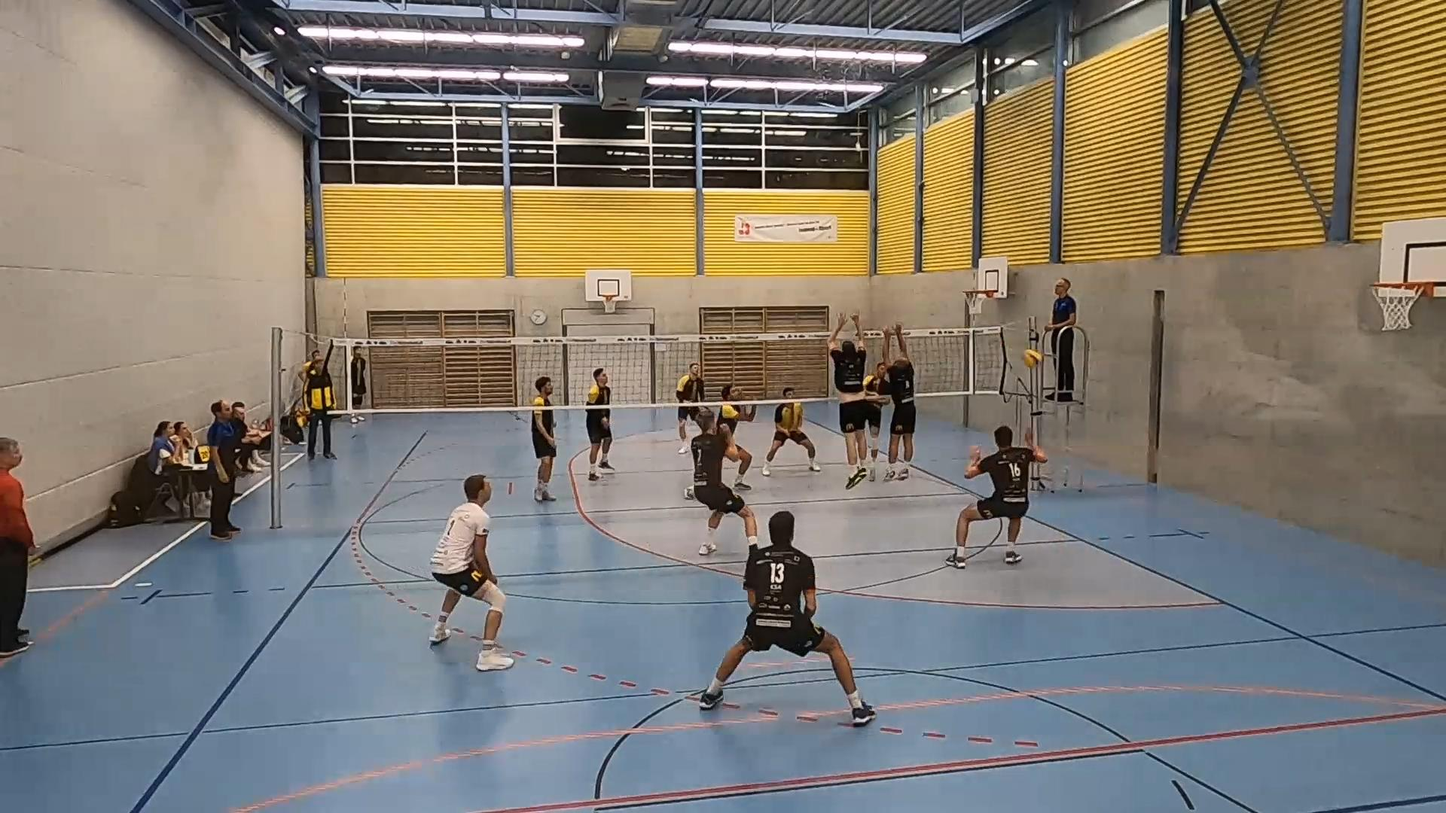Attack: (864, 360, 886, 464)
Block: (823, 313, 873, 487), (878, 324, 922, 488)
Dig: (944, 419, 1048, 575)
Player: (699, 510, 875, 726), (429, 474, 513, 671), (690, 409, 757, 557), (761, 402, 819, 476), (717, 384, 755, 490), (530, 376, 557, 501), (585, 368, 612, 480), (676, 362, 704, 453)
ball: (1022, 351, 1046, 365)
